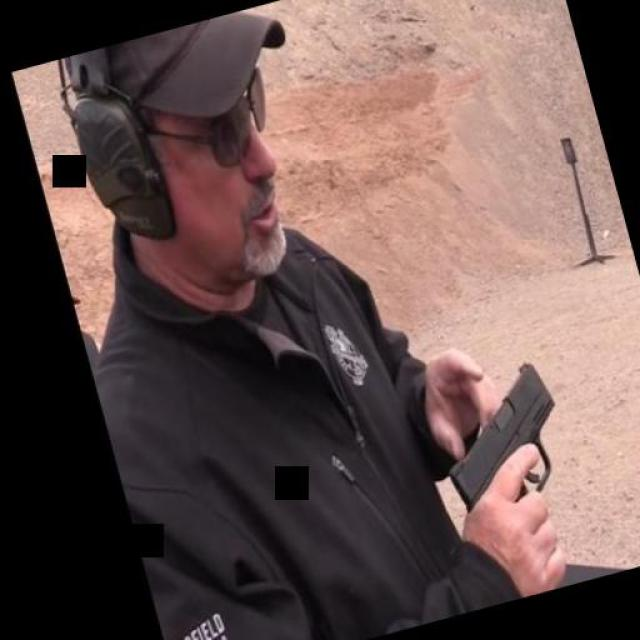gun: (428, 355, 598, 590)
